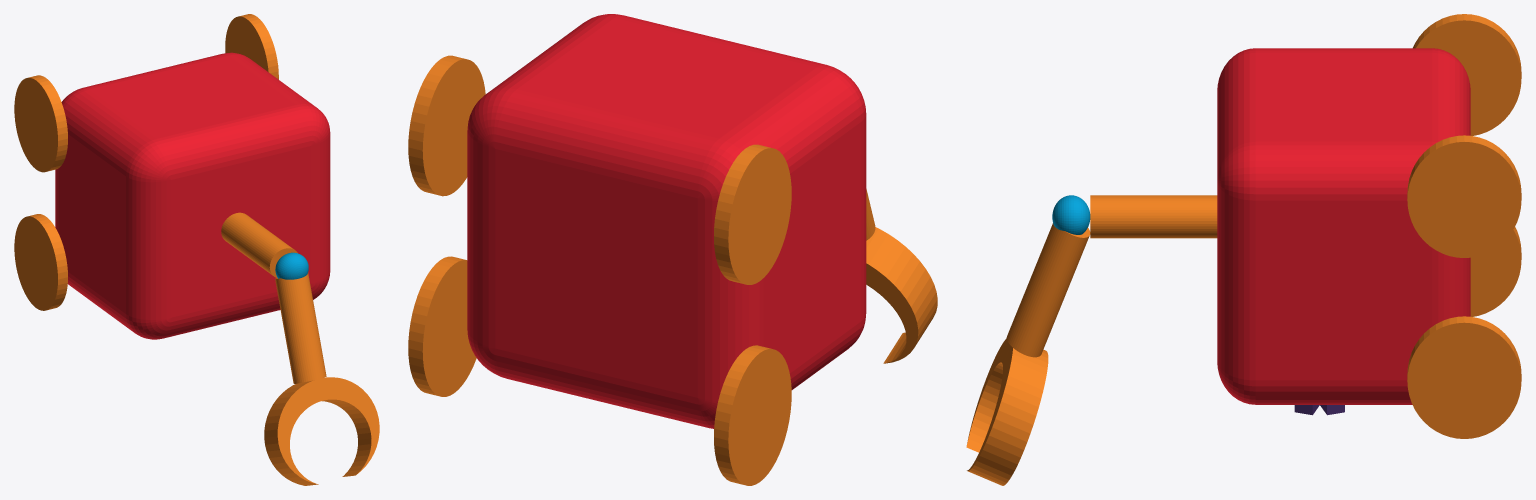
Rendered from robot.obj.
3 renders of one model, left to right at view 1: azimuth 30°, elevation 25°; view 2: azimuth 150°, elevation 25°; view 3: azimuth 270°, elevation 25°, orthographic. The views are drawn at different scales.
Visible parts, largest first — view 1: obj_0, obj_9, obj_3, obj_4, obj_8, obj_6, obj_2, obj_7; view 2: obj_0, obj_3, obj_4, obj_2, obj_1, obj_9; view 3: obj_0, obj_1, obj_2, obj_9, obj_4, obj_6, obj_8, obj_3, obj_7.
Boxes of the visible parts, x1,y1,x2,y2 form: obj_0: (55, 52, 330, 339); obj_9: (264, 377, 379, 485); obj_3: (14, 214, 67, 310); obj_4: (14, 75, 67, 172); obj_8: (275, 272, 326, 383); obj_6: (221, 212, 297, 277); obj_2: (225, 14, 278, 79); obj_7: (275, 252, 308, 279); obj_0: (467, 14, 866, 428); obj_3: (714, 345, 791, 485); obj_4: (714, 144, 791, 284); obj_2: (408, 55, 485, 196); obj_1: (408, 256, 476, 396); obj_9: (866, 227, 937, 363); obj_0: (1217, 48, 1470, 404); obj_1: (1407, 316, 1521, 438); obj_2: (1407, 135, 1521, 257); obj_9: (966, 338, 1048, 485); obj_4: (1413, 14, 1521, 135); obj_6: (1090, 195, 1217, 238); obj_8: (1006, 223, 1090, 357); obj_3: (1470, 227, 1521, 316); obj_7: (1052, 195, 1090, 234).
Bounding box in the file's own units: 9 × 12 × 15.
